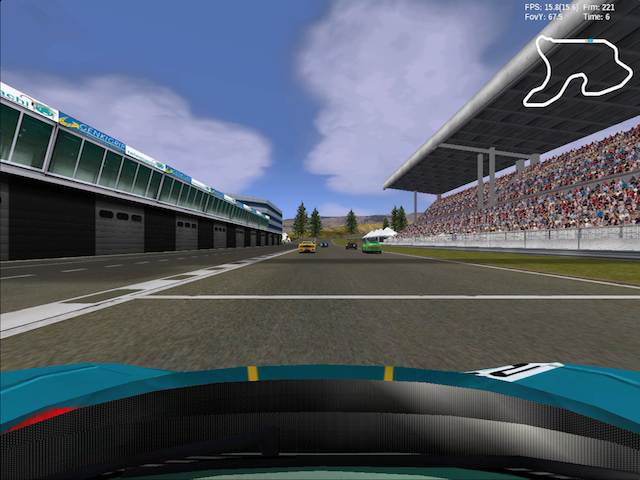Boxer96: (361, 241, 383, 254)
Cavallo360: (298, 241, 316, 254)
Spirit300: (346, 243, 358, 250)
